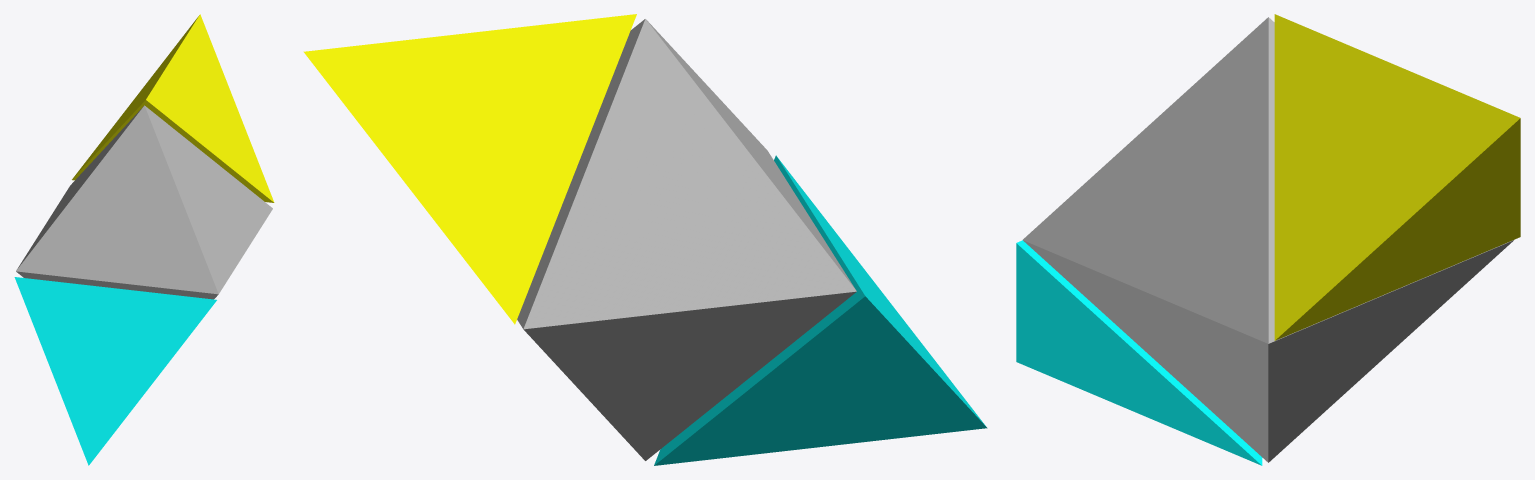
Rendered from tet_oct_parallelepiped.glb.
The picture shows the model from 3 angles, left to right: view 1: azimuth 30°, elevation 25°; view 2: azimuth 150°, elevation 25°; view 3: azimuth 270°, elevation 25°; orthographic projection. The views are drawn at different scales.
Size of the model in its own units: 2.05 by 2.05 by 2.05.
